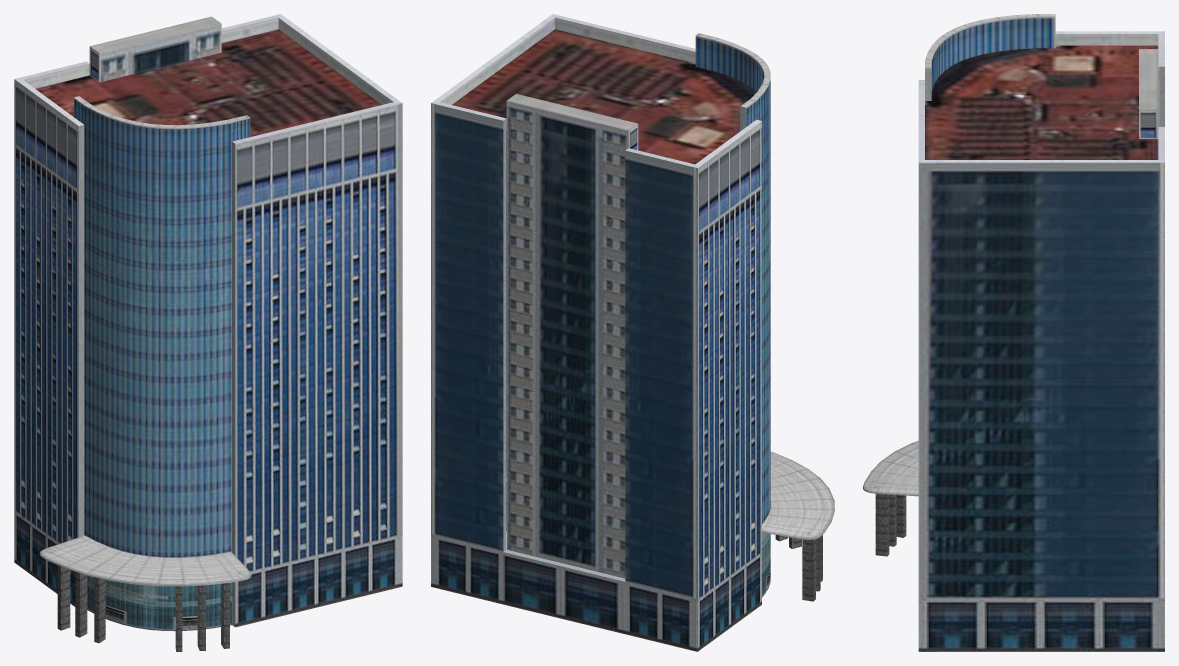
3 views of the same model, side by side, from view 1: azimuth 30°, elevation 25°; view 2: azimuth 150°, elevation 25°; view 3: azimuth 270°, elevation 25° (orthographic).
Visible parts, largest first — view 1: HN438___Thai_Building; view 2: HN438___Thai_Building; view 3: HN438___Thai_Building.
Part boxes in pixels (left/top/right/bottom): HN438___Thai_Building: left=14, top=14, right=402, bottom=651; HN438___Thai_Building: left=431, top=14, right=834, bottom=651; HN438___Thai_Building: left=863, top=14, right=1164, bottom=651.
Bounding box in the file's own units: 56.4 × 86.37 × 46.4.
Materials: 1 (1 with a texture image).
